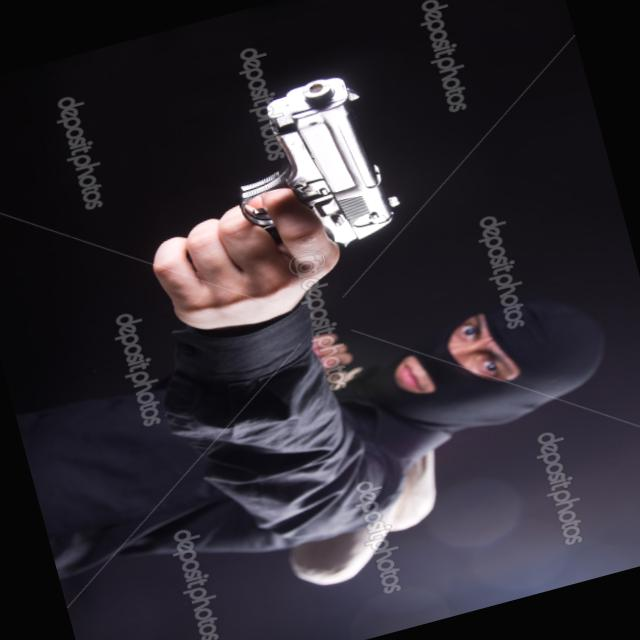handgun: (156, 56, 428, 294)
